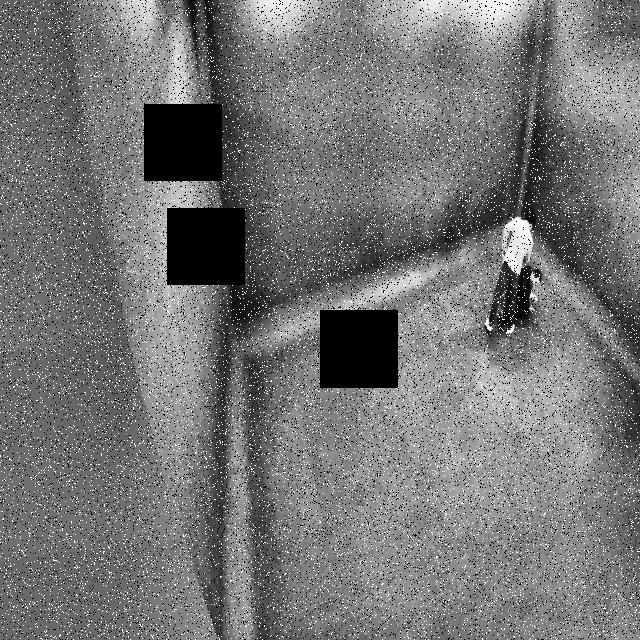assult: (481, 206, 544, 341)
